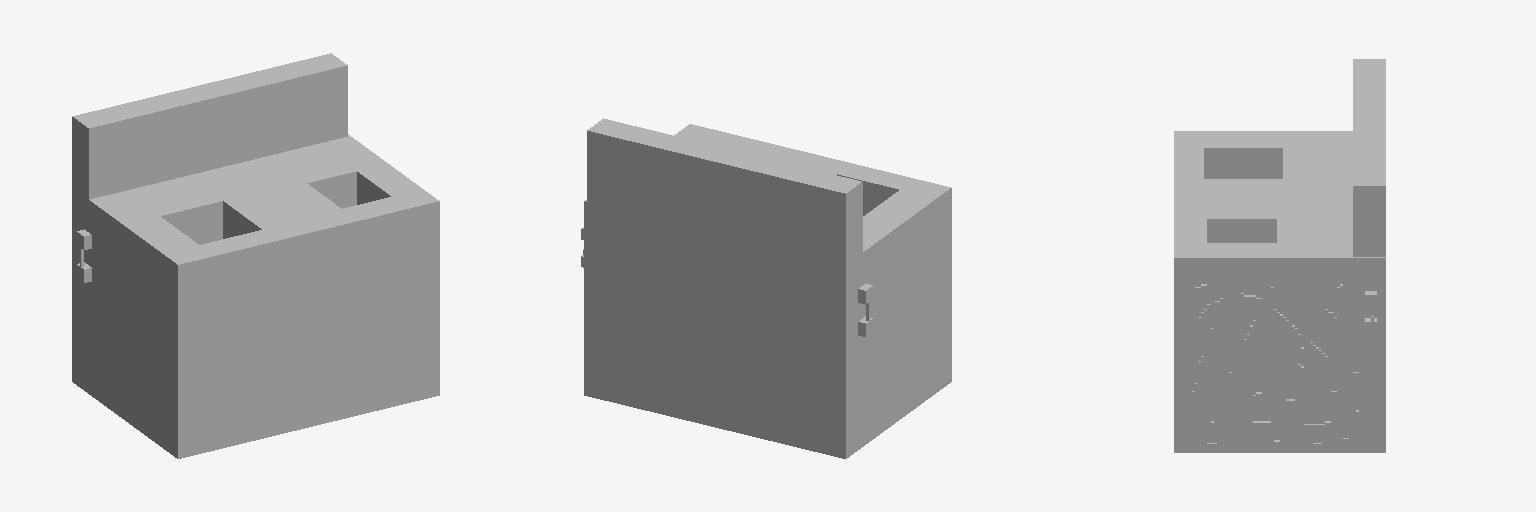
File: Dumpster.obj
3 renders of one model, left to right at view 1: azimuth 30°, elevation 25°; view 2: azimuth 150°, elevation 25°; view 3: azimuth 270°, elevation 25°, orthographic.
Parts seen in each view (by area): view 1: object 1; view 2: object 1; view 3: object 1.
Part boxes in pixels (bbox=[...]): object 1: bbox=[72, 53, 439, 458]; object 1: bbox=[581, 118, 951, 458]; object 1: bbox=[1174, 59, 1385, 452].
Bounding box in the file's own units: 10.6 × 9.7 × 7.